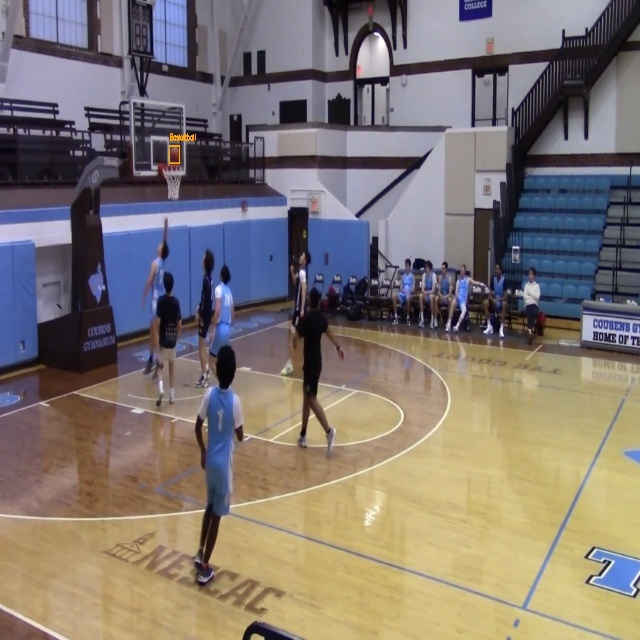Basketball: (170, 146, 180, 163)
